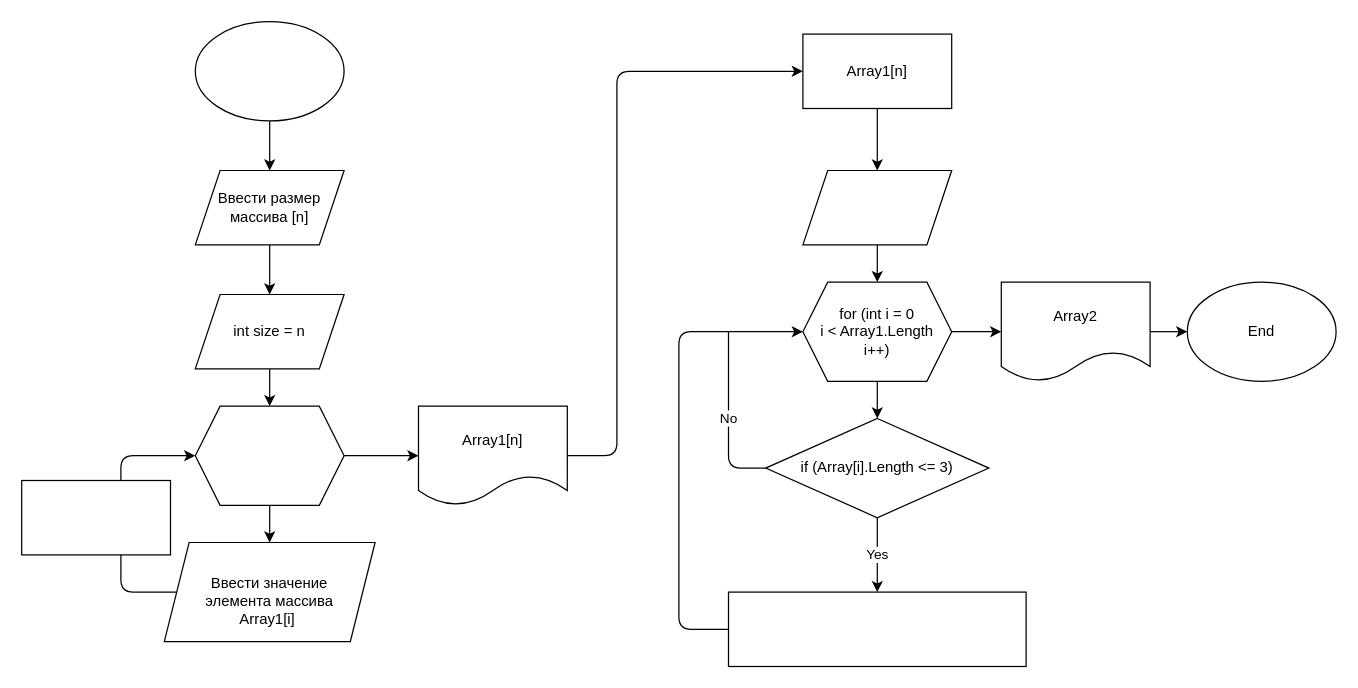
Image size: 1358x688. Some labels were removed from this diagram. Each missing label, with the centre of its shape:
"Array1[i] = Console.ReadLine()" goes at point (95, 517).
"Array2[count] = Array1[i] count++" goes at point (876, 628).
"Final Task" goes at point (269, 70).
"for (int i = 0 i < size i++)" goes at point (269, 455).
"string [] Array2 int count = 0" goes at point (877, 207).
